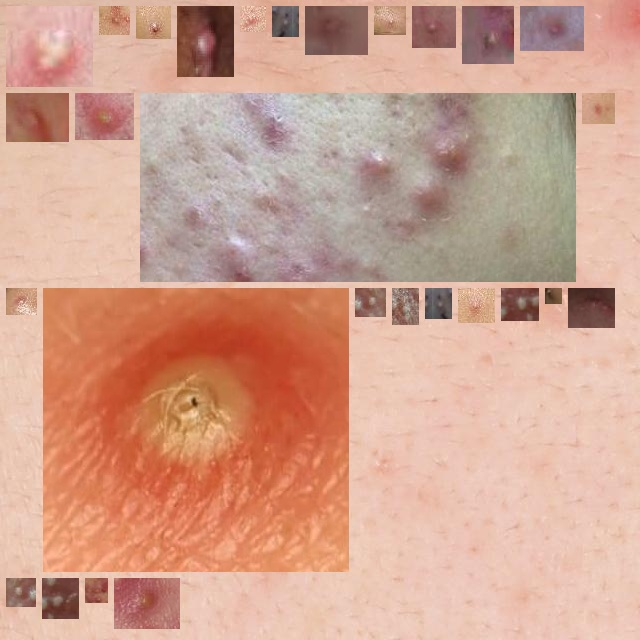pustule: (51, 296, 341, 564), (148, 101, 568, 274), (14, 14, 85, 79), (185, 14, 226, 69), (122, 586, 172, 621), (313, 14, 360, 47), (14, 101, 61, 134), (470, 14, 506, 56), (528, 14, 576, 43), (83, 101, 126, 132), (576, 296, 607, 320), (420, 14, 448, 40), (50, 586, 74, 611), (466, 296, 487, 315), (509, 296, 531, 313), (144, 14, 163, 31), (590, 101, 607, 116), (400, 296, 411, 317), (382, 14, 398, 27), (107, 14, 122, 27), (363, 296, 378, 309), (14, 586, 28, 599), (280, 14, 291, 29), (14, 296, 29, 307), (433, 296, 444, 311), (248, 14, 258, 24), (93, 586, 100, 595)
